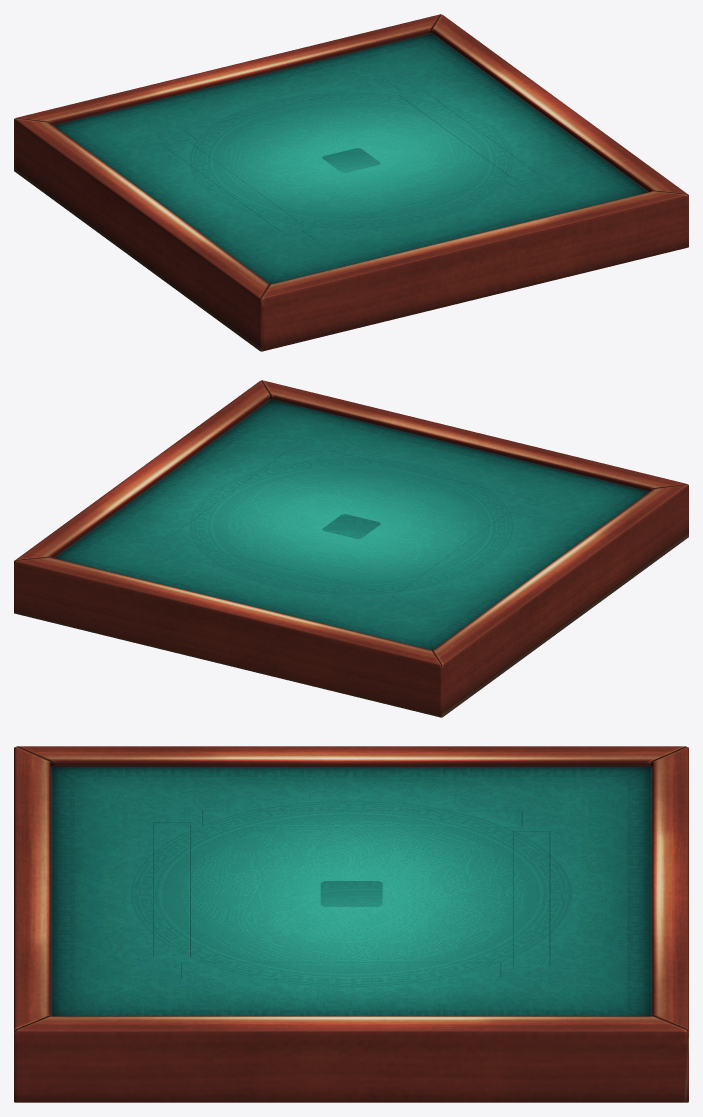
File: desk.fbx
3 views of the same model, one above another, from view 1: azimuth 30°, elevation 25°; view 2: azimuth 150°, elevation 25°; view 3: azimuth 270°, elevation 25° (orthographic). The views are drawn at different scales.
Parts seen in each view (by area): view 1: desk, ma02, ma03, ma01, ma04; view 2: desk, ma03, ma02, ma01, ma04; view 3: desk, ma01, ma04, ma02, ma03.
Part boxes in pixels (x1,y1,x2,y2): desk: (14,14,688,351); ma02: (184,81,399,140); ma03: (303,181,518,239); ma01: (399,90,539,181); ma04: (163,140,302,231); desk: (14,380,688,717); ma03: (316,450,531,509); ma02: (171,543,386,602); ma01: (171,450,310,541); ma04: (392,511,531,602); desk: (14,746,688,1102); ma01: (181,962,500,977); ma04: (202,810,521,825); ma02: (513,831,549,966); ma03: (153,822,189,957).
Bounding box in the file's own units: 131 × 15.44 × 131.
